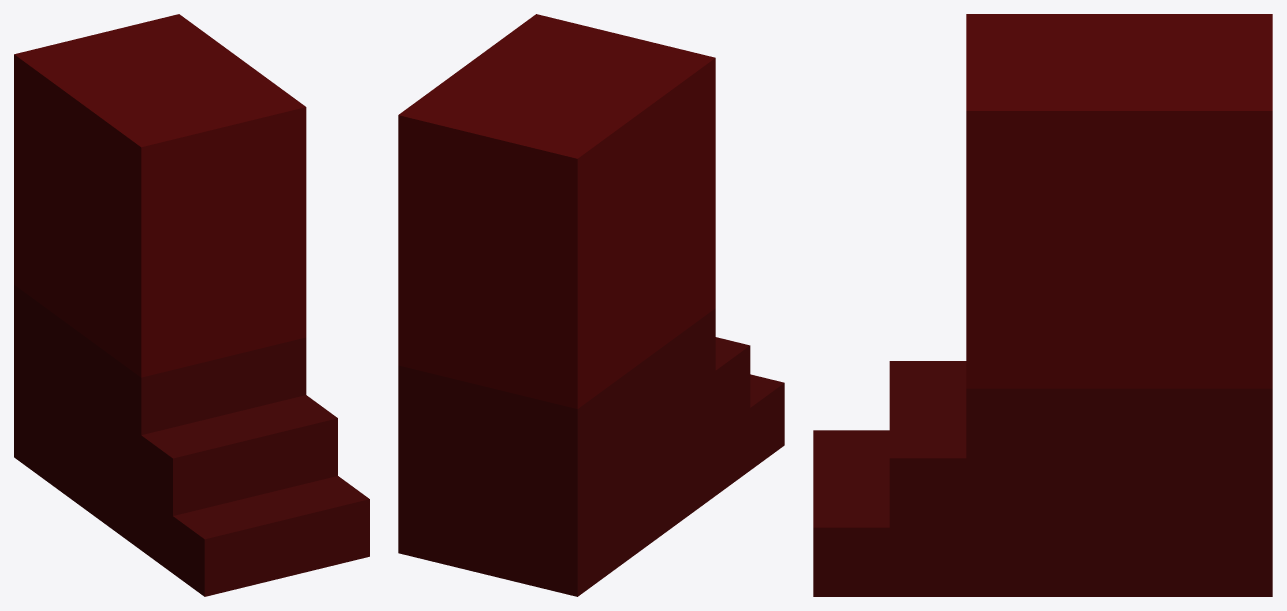
Rendered from BobLLeg.obj.
The picture shows the model from 3 angles, left to right: view 1: azimuth 30°, elevation 25°; view 2: azimuth 150°, elevation 25°; view 3: azimuth 270°, elevation 25°; orthographic projection. The views are drawn at different scales.
Bounding box in the file's own units: 0.3 × 0.7 × 0.6.
Materials: 1 (1 with a texture image).
